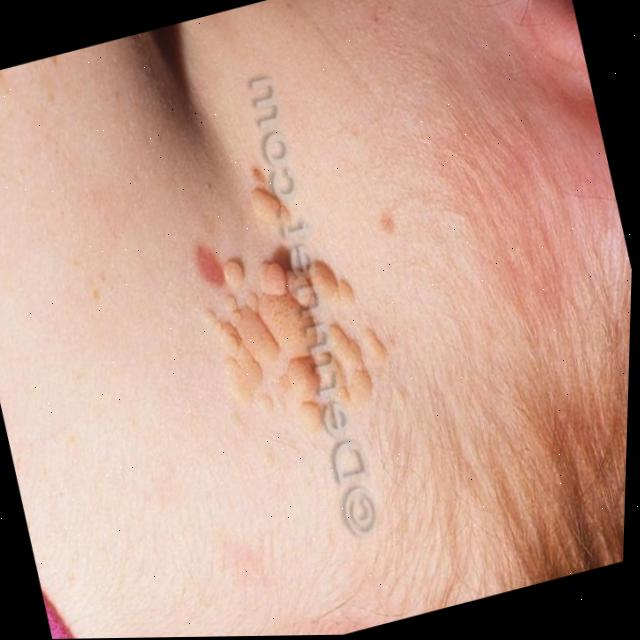Eczema: (197, 220, 386, 448)
